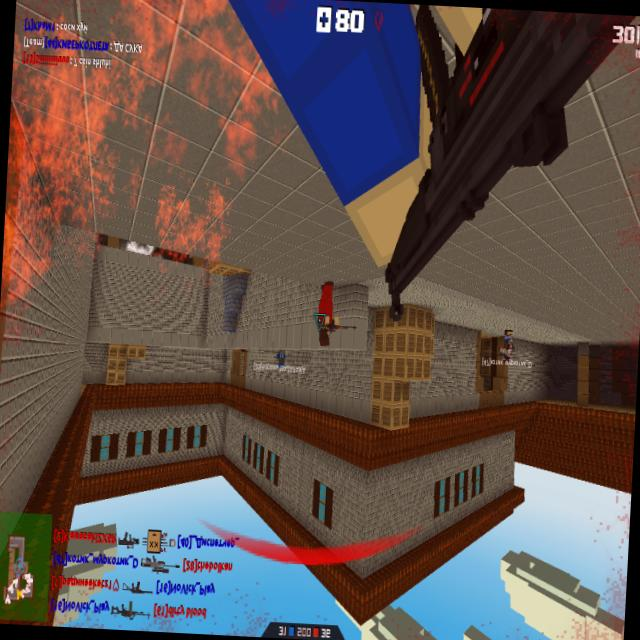enemy: (316, 280, 342, 349)
